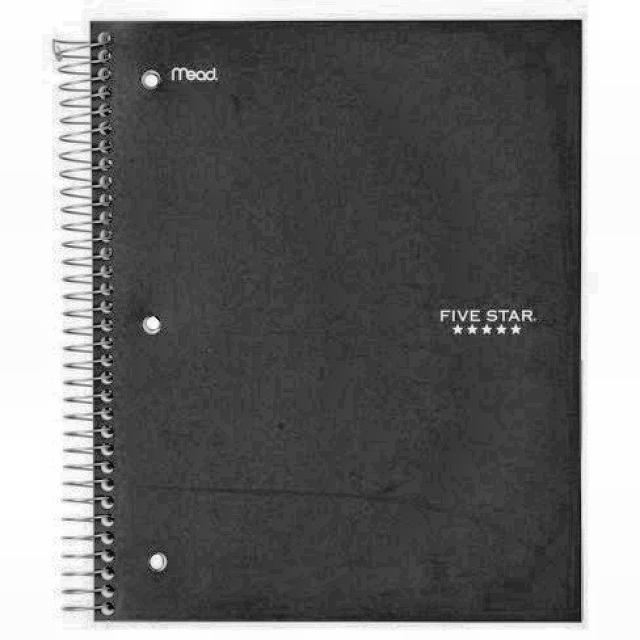Notebook: (37, 7, 598, 637)
